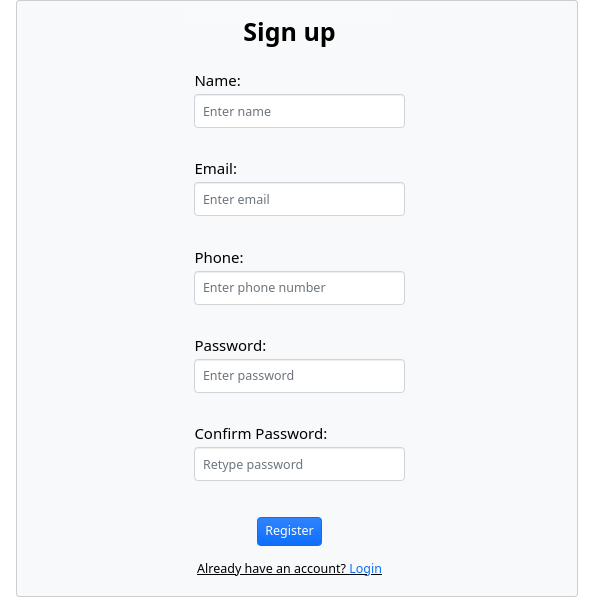
Scenario: Register › confirm password verification
This screenshot has width=595, height=614.
Step 1. Type "284" into the password field with test id "password" → point(300, 376), box [194, 359, 405, 393]
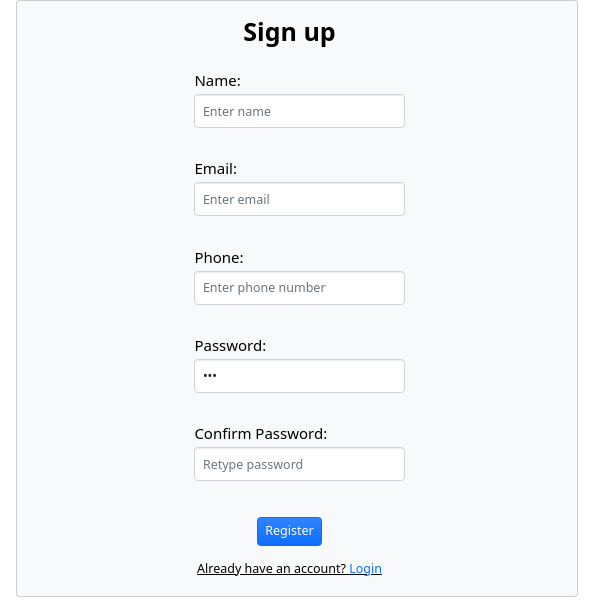
Step 2. Type "2845" into the password field with test id "cnfmPass" → point(300, 464), box [194, 447, 405, 481]
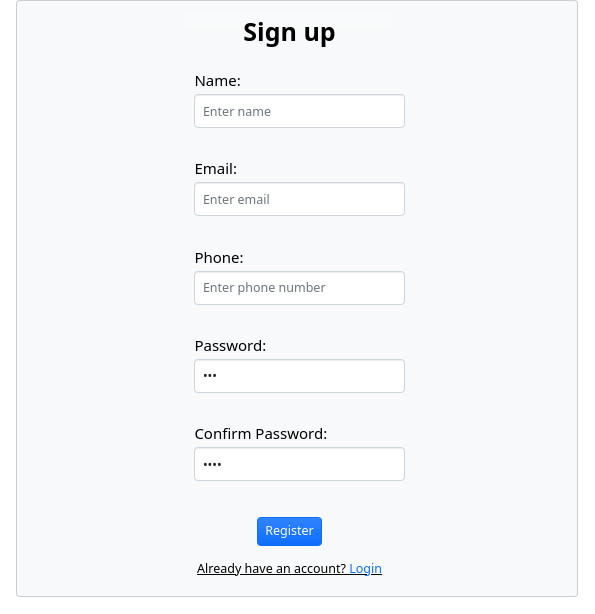
Step 3. Leave the password field with test id "cnfmPass", box [194, 447, 405, 481]
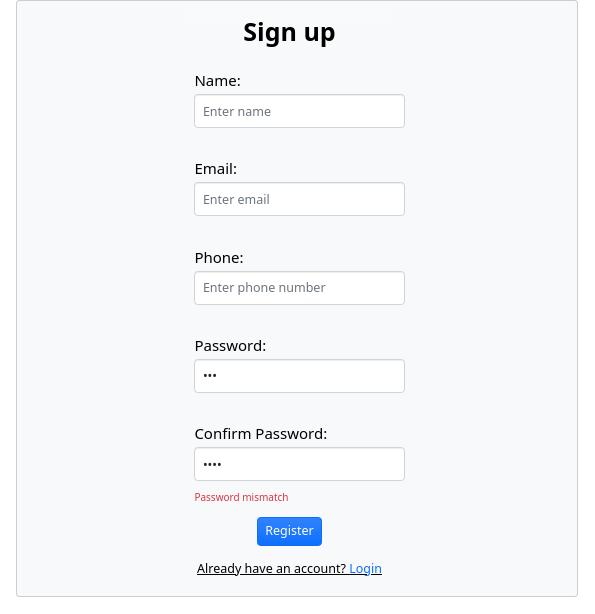
Expected: the text "Password mismatch" is shown, [194, 490, 288, 504]
